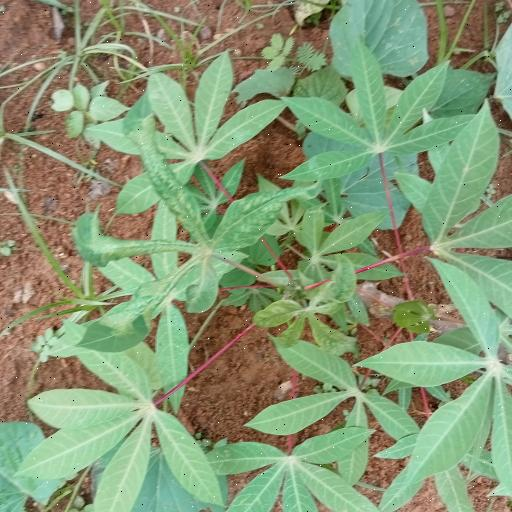Cassava_Mosaic: (74, 121, 308, 349), (20, 354, 213, 510), (294, 50, 478, 176), (196, 422, 376, 512)
